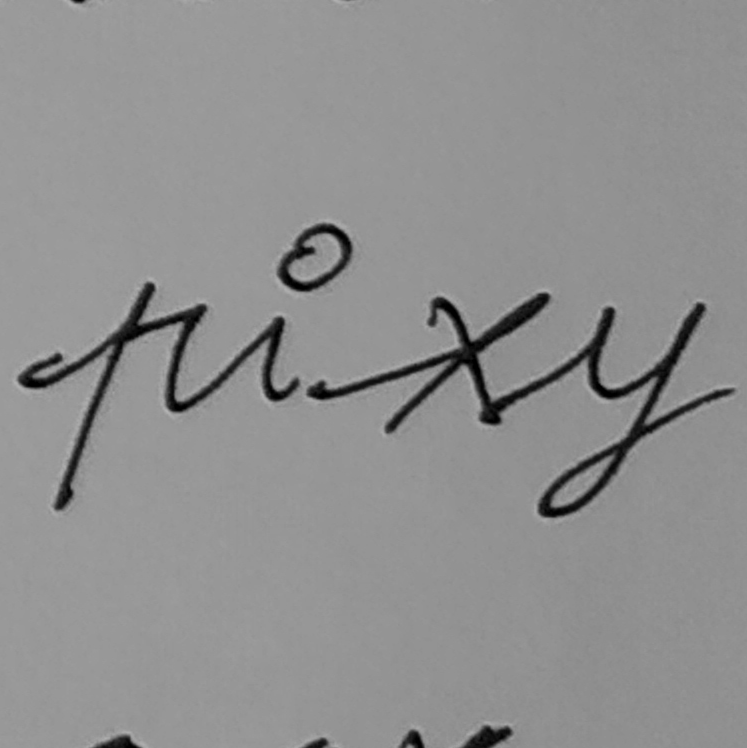i: (254, 217, 360, 408)
p: (46, 276, 212, 515)
x: (380, 285, 554, 440)
y: (532, 297, 707, 521)
